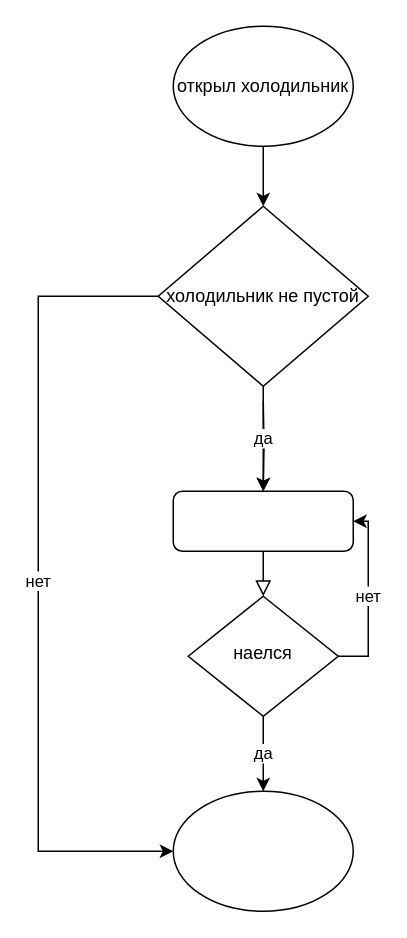
Some shapes in this 407 by 938 pixel diagram are drawn without their labels. Here are the shapes that lost their labels. From the top down, the centre of each, then its label:
At point (262, 520): "начал есть".
At point (262, 850): "закрыл холодильник".
